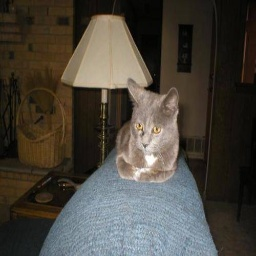cat: (113, 70, 188, 189)
